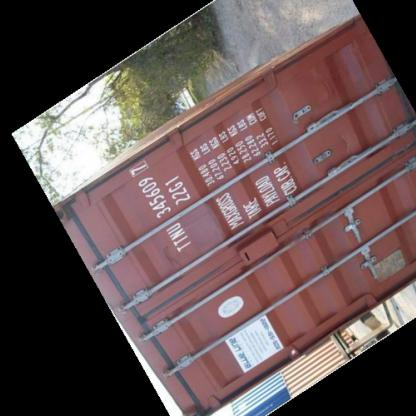Damage: (156, 238, 186, 283), (306, 61, 333, 107), (330, 133, 355, 152)
